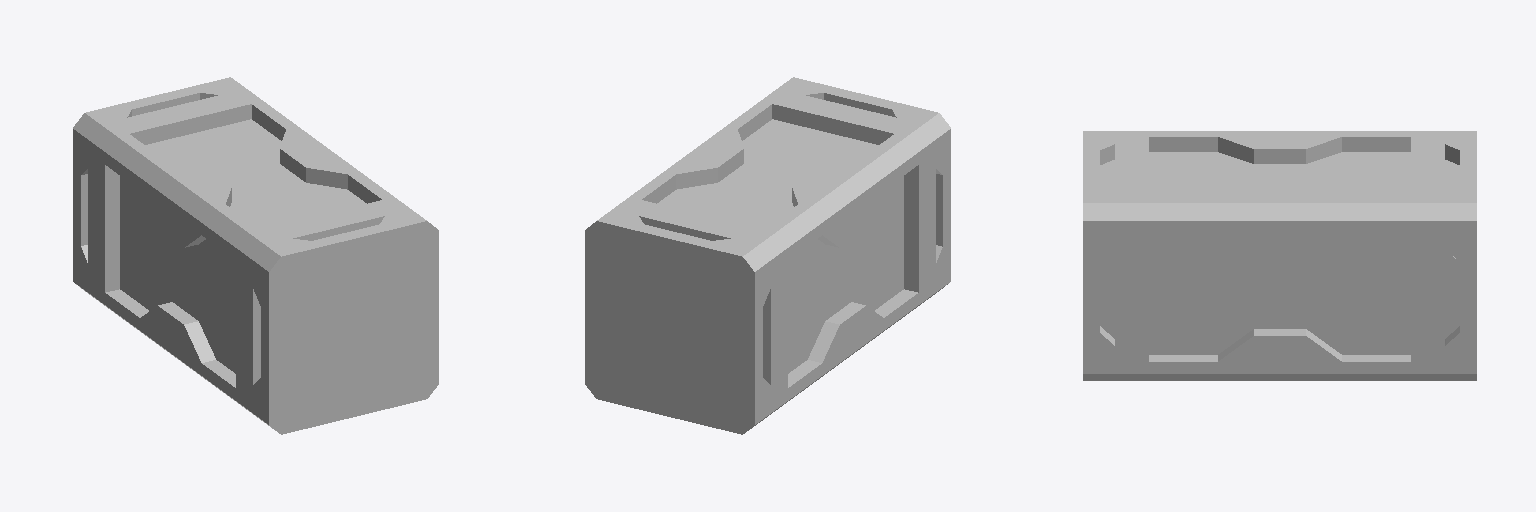
File: obj_interactive_timer_body.obj
3 views of the same model, side by side, from view 1: azimuth 30°, elevation 25°; view 2: azimuth 150°, elevation 25°; view 3: azimuth 270°, elevation 25° (orthographic).
Visible parts, largest first — view 1: obj_interactive_timer_body; view 2: obj_interactive_timer_body; view 3: obj_interactive_timer_body.
Part boxes in pixels (x1,y1,x2,y2): obj_interactive_timer_body: (73,77,438,434); obj_interactive_timer_body: (585,77,950,434); obj_interactive_timer_body: (1083,131,1476,380).
Bounding box in the file's own units: 1 × 1 × 2.